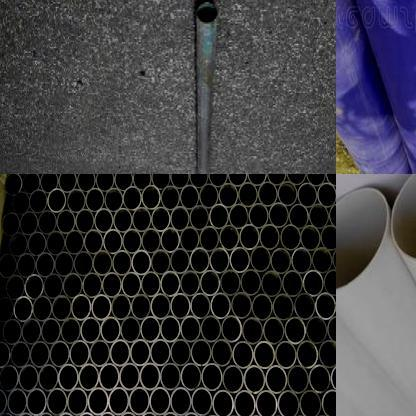pipe: (336, 187, 388, 291), (286, 365, 310, 394), (222, 364, 244, 394), (308, 364, 330, 394), (180, 362, 202, 392), (254, 340, 276, 370), (275, 340, 297, 370), (296, 340, 318, 370), (211, 338, 233, 368), (272, 292, 294, 322), (266, 365, 288, 394), (244, 365, 266, 394), (190, 338, 212, 367), (262, 316, 284, 345), (242, 316, 264, 345), (284, 316, 306, 345), (306, 315, 328, 344), (251, 292, 273, 321), (201, 362, 222, 392), (99, 362, 120, 392), (233, 340, 254, 370), (130, 338, 151, 368), (221, 314, 242, 344), (170, 386, 191, 416), (108, 386, 129, 416), (149, 386, 170, 416), (129, 386, 150, 416), (78, 364, 100, 392), (294, 292, 316, 320), (210, 292, 232, 320), (230, 292, 252, 320), (282, 270, 304, 298), (302, 269, 324, 297), (240, 268, 262, 296), (58, 363, 79, 392), (119, 362, 140, 391), (160, 362, 181, 391), (150, 338, 171, 367), (170, 338, 191, 367), (315, 292, 336, 321), (191, 387, 212, 416), (26, 387, 47, 416), (46, 387, 67, 416), (67, 387, 88, 416), (70, 294, 92, 321), (270, 247, 292, 274), (280, 224, 302, 251), (255, 389, 277, 416), (277, 389, 299, 416), (299, 389, 321, 416), (212, 389, 234, 416), (38, 364, 59, 392), (10, 341, 31, 369), (49, 340, 70, 368), (109, 339, 130, 367), (80, 316, 101, 344), (100, 316, 121, 344), (120, 316, 141, 344), (160, 315, 181, 343), (180, 315, 201, 343), (200, 315, 221, 343), (170, 292, 191, 320), (190, 292, 211, 320), (261, 270, 282, 298), (199, 269, 220, 297), (220, 268, 241, 296), (140, 362, 160, 391), (88, 387, 108, 416), (234, 390, 256, 416), (91, 294, 112, 321), (150, 293, 171, 320), (121, 271, 142, 298), (92, 249, 113, 276), (150, 249, 171, 276), (189, 247, 210, 274), (291, 247, 312, 274), (209, 247, 230, 274), (250, 246, 271, 273), (219, 224, 240, 251), (239, 224, 260, 251), (259, 223, 280, 250), (30, 340, 50, 368), (70, 340, 90, 368), (90, 340, 110, 368), (22, 318, 42, 346), (140, 316, 160, 344), (52, 294, 72, 322), (180, 270, 200, 298), (74, 250, 94, 278), (230, 246, 250, 274), (300, 224, 320, 252), (7, 388, 27, 416), (150, 206, 171, 232), (228, 204, 249, 230), (309, 204, 330, 230), (288, 204, 309, 230), (248, 203, 269, 229), (268, 202, 289, 228), (257, 182, 278, 208), (41, 317, 61, 344), (13, 296, 33, 323), (32, 295, 52, 322), (111, 294, 131, 321), (131, 294, 151, 321), (43, 273, 63, 300), (62, 272, 82, 299), (82, 272, 102, 299), (141, 271, 161, 298), (160, 270, 180, 297), (16, 252, 36, 279), (112, 249, 132, 276), (132, 249, 152, 276), (170, 248, 190, 275), (312, 247, 332, 274), (141, 228, 161, 255), (200, 225, 220, 252), (218, 182, 238, 209), (298, 182, 318, 209), (19, 364, 38, 392), (3, 318, 22, 346), (61, 316, 80, 344), (198, 184, 219, 209), (318, 340, 336, 369), (24, 274, 44, 300), (102, 272, 122, 298), (54, 252, 74, 278), (64, 230, 84, 256), (84, 229, 104, 255), (103, 228, 123, 254), (122, 228, 142, 254), (160, 228, 180, 254), (180, 226, 200, 252), (56, 209, 76, 235), (132, 206, 152, 232), (189, 205, 209, 231), (209, 204, 229, 230), (66, 188, 86, 214), (180, 184, 200, 210), (238, 182, 258, 208), (278, 182, 298, 208), (196, 1, 218, 24), (0, 364, 18, 392), (94, 208, 114, 233), (113, 208, 133, 233), (170, 206, 190, 231), (6, 274, 25, 300), (9, 232, 28, 258), (46, 230, 65, 256), (29, 189, 48, 215), (122, 186, 141, 212), (317, 182, 336, 208), (141, 186, 161, 210), (160, 186, 180, 210), (36, 252, 54, 278), (38, 210, 56, 236), (76, 208, 94, 234), (48, 188, 66, 214), (0, 252, 17, 279), (104, 188, 123, 212), (2, 212, 20, 237), (20, 211, 38, 236), (12, 191, 30, 216), (86, 188, 104, 213), (28, 232, 46, 256), (320, 224, 336, 251), (321, 389, 336, 416), (4, 174, 22, 196), (22, 174, 40, 195), (0, 296, 14, 322), (39, 174, 58, 193), (58, 174, 77, 193), (76, 174, 95, 193), (323, 269, 336, 296), (95, 174, 114, 192), (114, 174, 133, 191), (132, 174, 151, 190), (151, 174, 170, 190), (170, 174, 189, 189), (0, 341, 10, 368), (189, 174, 208, 188), (208, 174, 227, 188), (227, 174, 247, 187), (327, 315, 336, 343), (306, 174, 325, 187), (266, 174, 286, 186), (286, 174, 306, 186), (247, 174, 266, 186), (0, 388, 7, 415), (329, 203, 336, 229), (330, 363, 336, 393), (325, 174, 336, 187)
